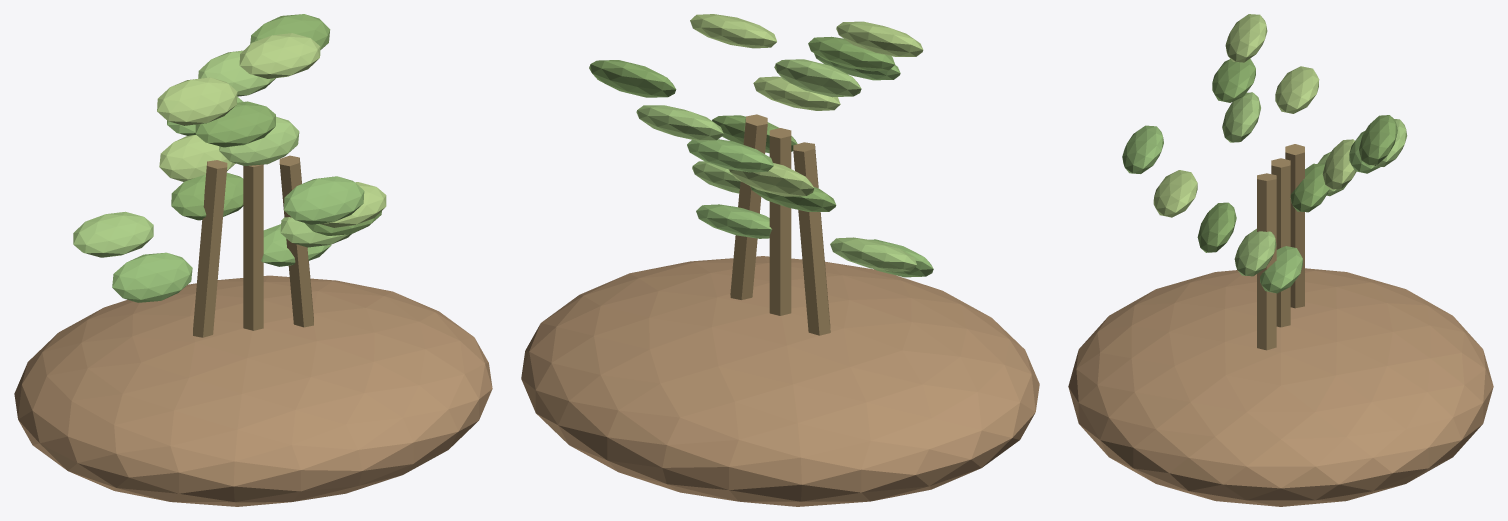
File: yerba_creciendo.glb
The picture shows the model from 3 angles, left to right: view 1: azimuth 30°, elevation 25°; view 2: azimuth 150°, elevation 25°; view 3: azimuth 270°, elevation 25°; orthographic projection. The views are drawn at different scales.
Parts seen in each view (by area): view 1: dirt, stem_0, stem_1, leaf_8, leaf_7, leaf_4, leaf_15, leaf_9, leaf_6, stem_2, leaf_11, leaf_5 (+7 smaller); view 2: dirt, stem_0, stem_1, stem_2, leaf_5, leaf_14, leaf_13, leaf_7, leaf_15, leaf_9, leaf_12, leaf_0 (+8 smaller); view 3: dirt, stem_2, stem_1, stem_0, leaf_3, leaf_15, leaf_7, leaf_4, leaf_6, leaf_1, leaf_14, leaf_2 (+6 smaller).
Boxes of the visible parts, bbox=[...] form: dirt: bbox=[14, 275, 492, 506]; stem_0: bbox=[193, 160, 227, 337]; stem_1: bbox=[243, 164, 263, 330]; leaf_8: bbox=[112, 252, 192, 302]; leaf_7: bbox=[157, 77, 237, 125]; leaf_4: bbox=[284, 176, 364, 224]; leaf_15: bbox=[239, 33, 320, 78]; leaf_9: bbox=[73, 211, 153, 257]; leaf_6: bbox=[195, 101, 275, 147]; stem_2: bbox=[279, 155, 313, 327]; leaf_11: bbox=[159, 135, 235, 181]; leaf_5: bbox=[219, 116, 299, 165]; dirt: bbox=[521, 256, 1039, 506]; stem_0: bbox=[793, 142, 830, 335]; stem_1: bbox=[769, 128, 791, 315]; stem_2: bbox=[730, 114, 767, 299]; leaf_5: bbox=[774, 59, 861, 97]; leaf_14: bbox=[589, 60, 676, 97]; leaf_13: bbox=[636, 105, 723, 140]; leaf_7: bbox=[836, 21, 923, 56]; leaf_15: bbox=[690, 14, 776, 48]; leaf_9: bbox=[830, 237, 917, 271]; leaf_12: bbox=[687, 139, 773, 172]; leaf_0: bbox=[696, 204, 771, 238]; dirt: bbox=[1068, 268, 1493, 506]; stem_2: bbox=[1257, 173, 1276, 350]; stem_1: bbox=[1271, 158, 1290, 327]; stem_0: bbox=[1285, 144, 1304, 308]; leaf_3: bbox=[1153, 170, 1197, 217]; leaf_15: bbox=[1275, 66, 1319, 113]; leaf_7: bbox=[1225, 14, 1267, 62]; leaf_4: bbox=[1122, 125, 1163, 173]; leaf_6: bbox=[1212, 58, 1255, 102]; leaf_1: bbox=[1234, 228, 1276, 276]; leaf_14: bbox=[1359, 115, 1397, 165]; leaf_2: bbox=[1197, 202, 1236, 252].
Bounding box in the file's own units: 0.34 × 0.3064 × 0.3.
